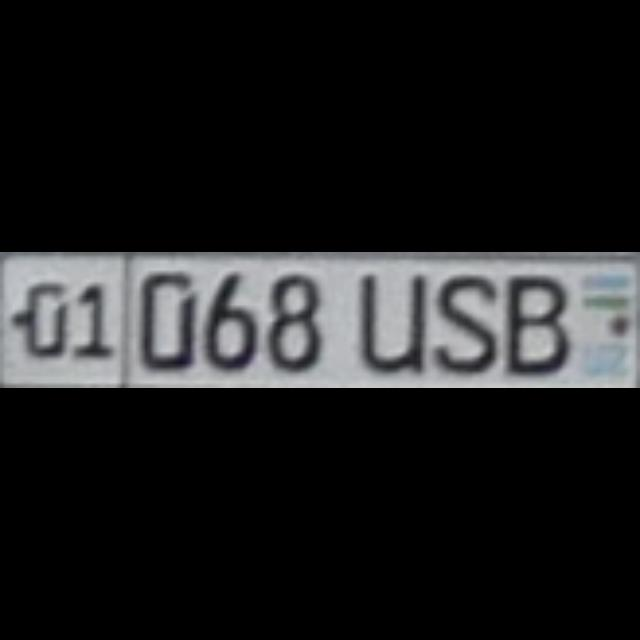0: (136, 267, 192, 365), (20, 279, 58, 353)
1: (70, 279, 110, 357)
6: (198, 268, 250, 368)
8: (262, 271, 316, 369)
B: (503, 271, 562, 369)
S: (429, 271, 491, 369)
U: (355, 271, 417, 369)
